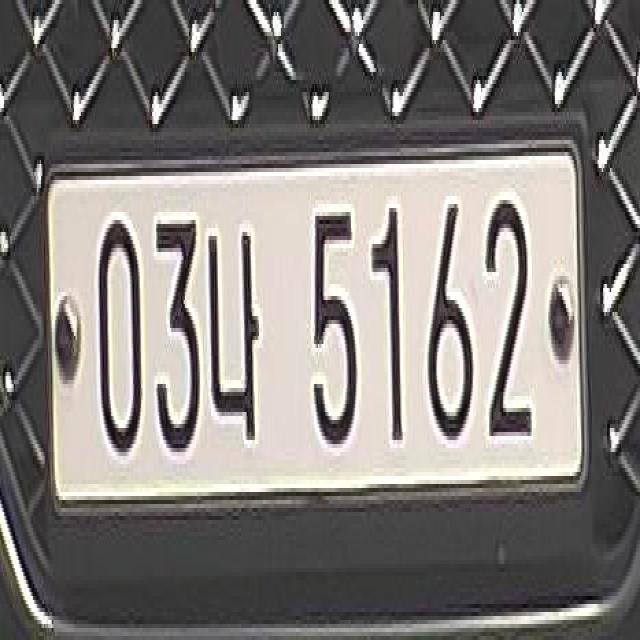illegal_plate: (41, 132, 594, 527)
